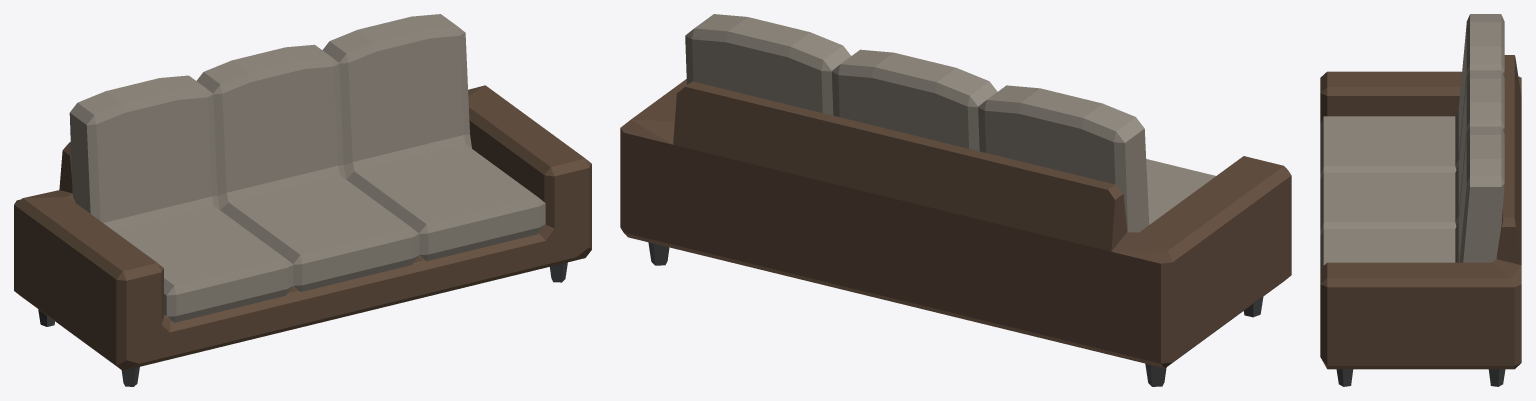
The model's file is SM_Props_Interior_House_Room_Sofa_01.fbx.
The picture shows the model from 3 angles, left to right: view 1: azimuth 30°, elevation 25°; view 2: azimuth 150°, elevation 25°; view 3: azimuth 270°, elevation 25°; orthographic projection. The views are drawn at different scales.
Visible parts, largest first — view 1: SM_Props_Interior_House_Room_Sofa_01; view 2: SM_Props_Interior_House_Room_Sofa_01; view 3: SM_Props_Interior_House_Room_Sofa_01.
Part boxes in pixels (left/top/right/bottom): SM_Props_Interior_House_Room_Sofa_01: left=14, top=14, right=591, bottom=386; SM_Props_Interior_House_Room_Sofa_01: left=620, top=14, right=1291, bottom=386; SM_Props_Interior_House_Room_Sofa_01: left=1320, top=14, right=1521, bottom=386.
Size of the model in its own units: 200 by 86.85 by 80.
